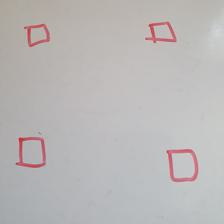process: (166, 147, 198, 182), (15, 135, 47, 168), (144, 20, 176, 43), (23, 24, 51, 47)
